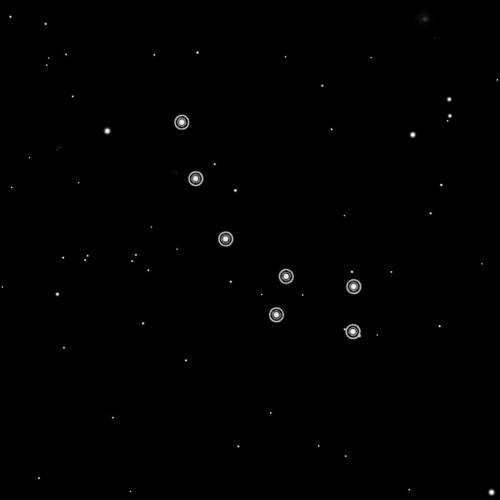ursa_minor: (168, 108, 371, 346)
